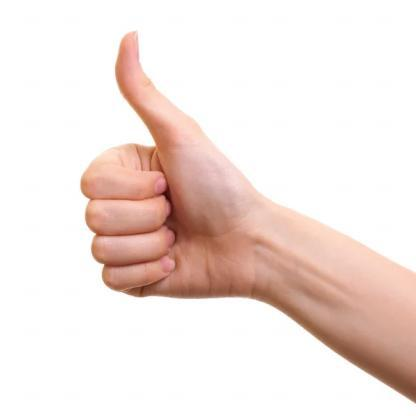thumb_up: (74, 26, 254, 302)
